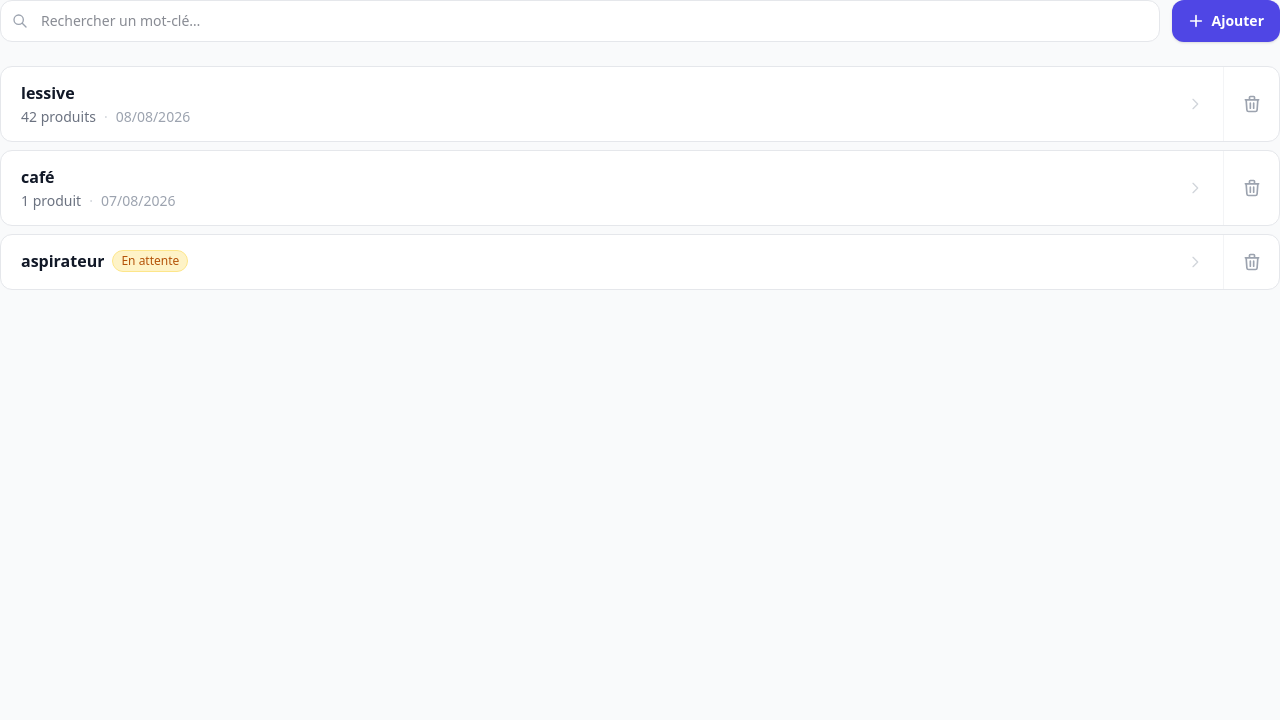
Test: KeywordDashboard › suppression › renonce sur « Annuler »
The image size is (1280, 720).
Click the button named "Supprimer le mot-clé lessive": (1251, 104) [1223,67,1279,141]
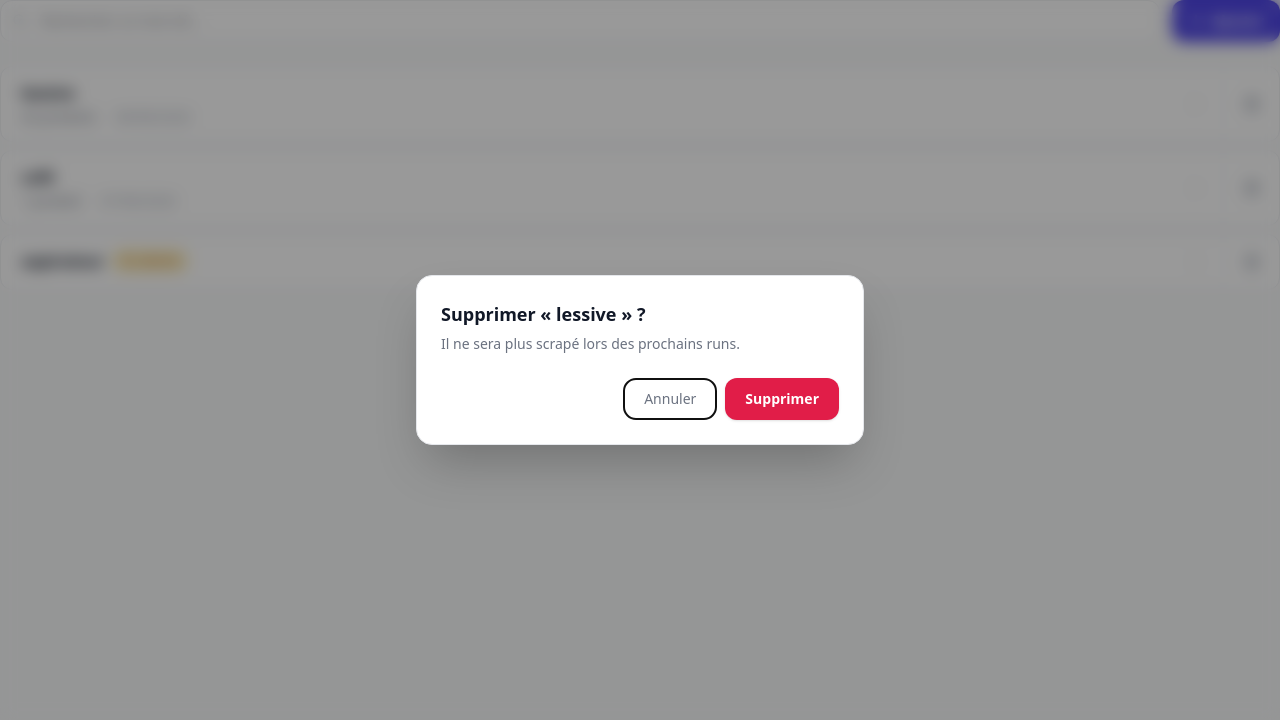
Click the button "Annuler": (670, 399) [623,378,717,420]
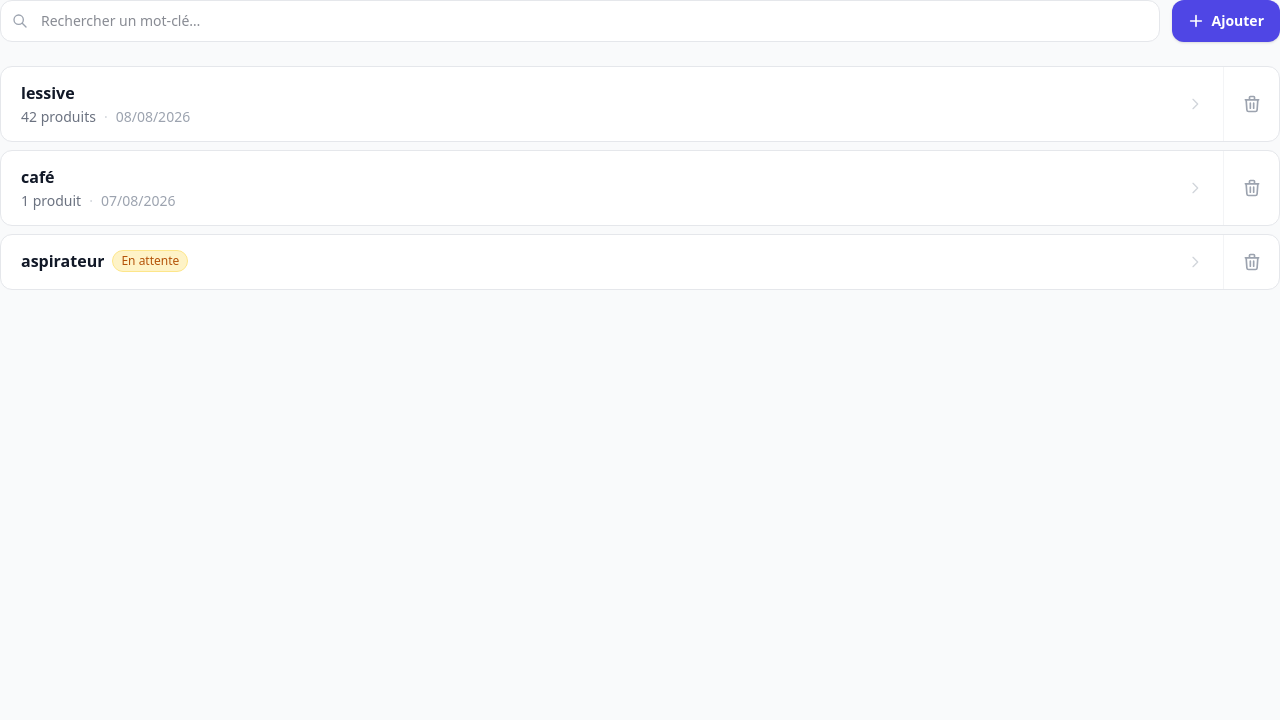
Check: the dialog is gone
